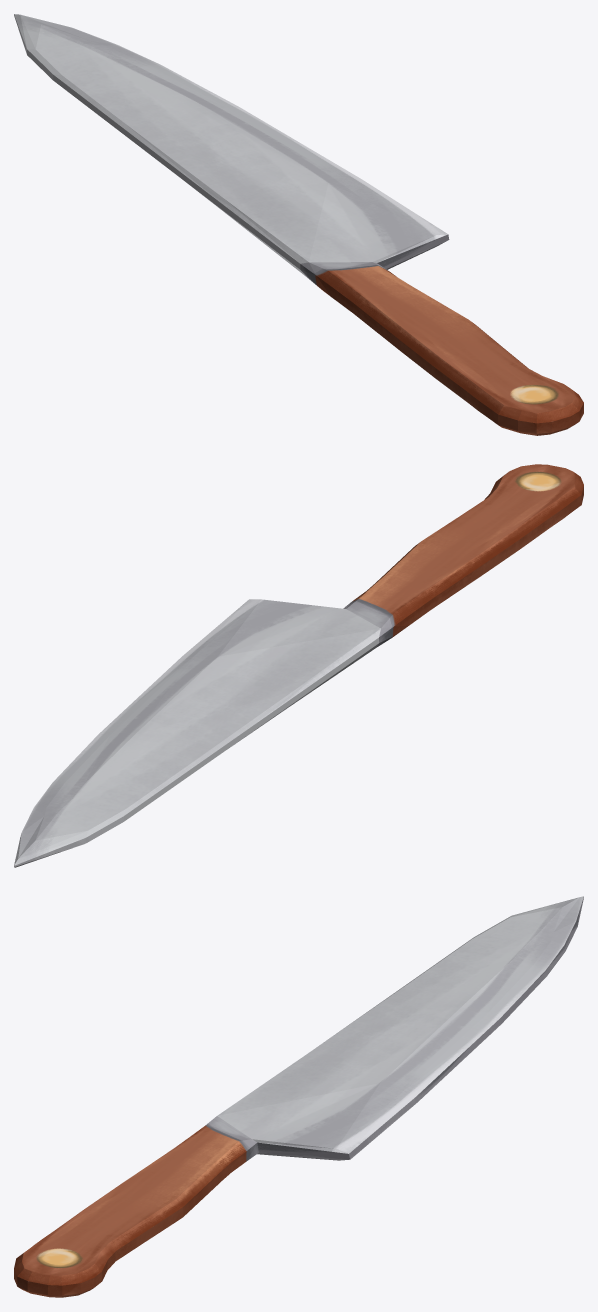
Rendered from knife.fbx.
3 renders of one model, top to bottom at view 1: azimuth 30°, elevation 25°; view 2: azimuth 150°, elevation 25°; view 3: azimuth 330°, elevation 25°, orthographic. The views are drawn at different scales.
Visible parts, largest first — view 1: knife; view 2: knife; view 3: knife.
Boxes of the visible parts, box(x1,y1,x2,y2) form: knife: box(14, 14, 583, 435); knife: box(14, 464, 583, 867); knife: box(14, 896, 583, 1297).
Bounding box in the file's own units: 35.18 × 4.91 × 228.
